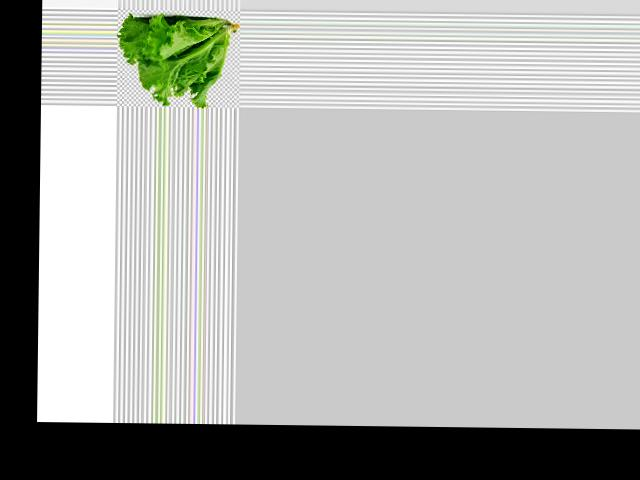lettuce: (118, 16, 240, 107)
